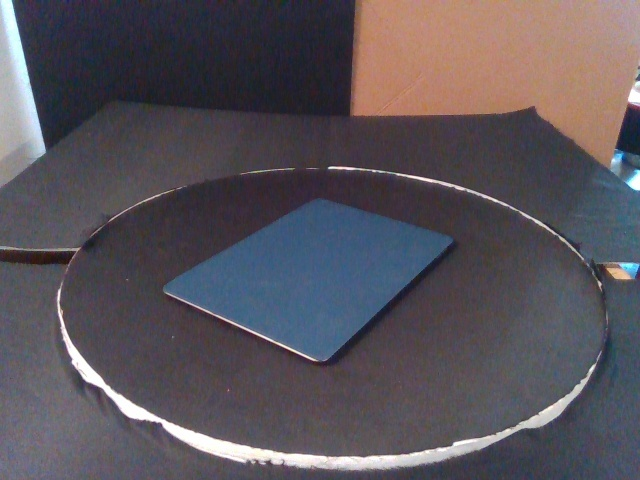laptop: (162, 197, 455, 364)
